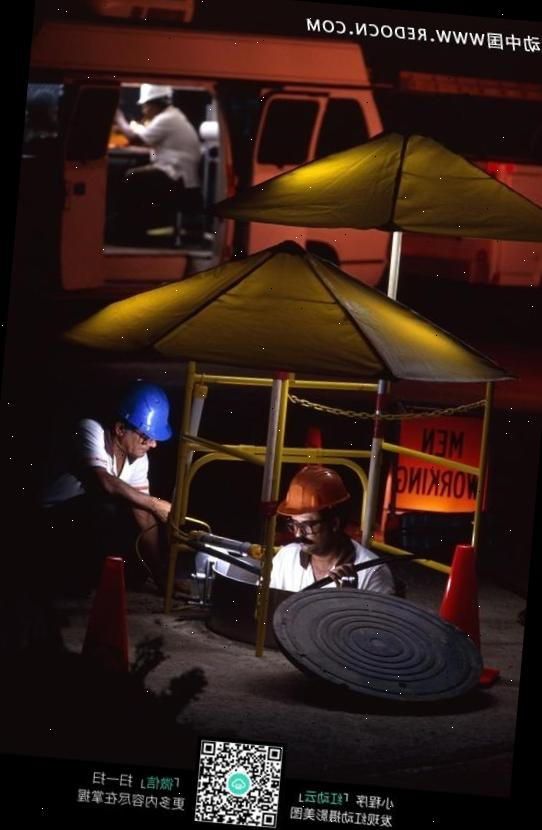helmet: (274, 462, 349, 528), (112, 382, 177, 446), (134, 81, 174, 108)
